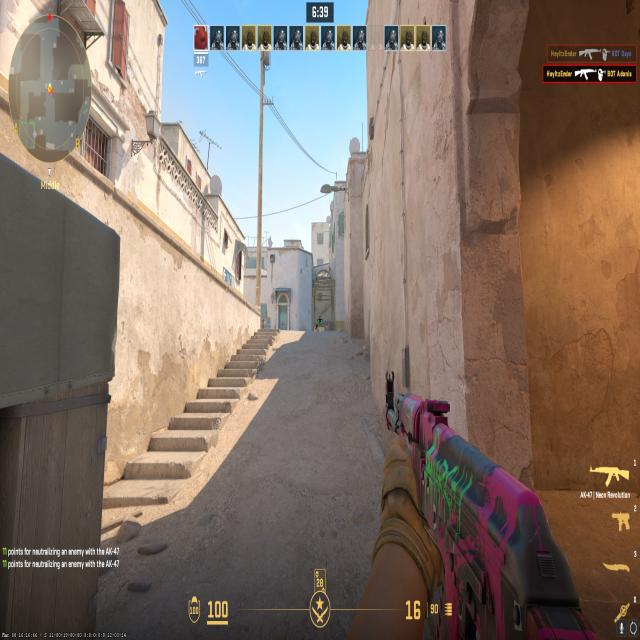t: (312, 319, 320, 332)
